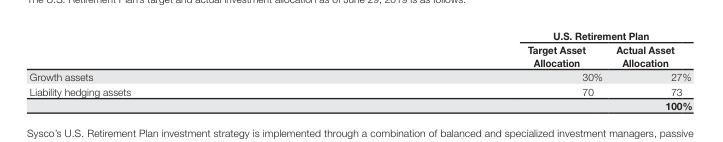table: (28, 28, 691, 111)
table column: (28, 28, 328, 111), (328, 28, 608, 111), (608, 28, 691, 111)
table column header: (28, 28, 691, 69)
table row: (28, 42, 691, 69), (28, 83, 691, 98), (28, 28, 691, 42), (28, 69, 691, 83), (28, 98, 691, 111)
table spanning cell: (328, 28, 691, 42)
